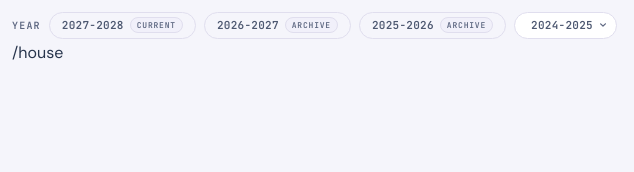
Scenario: House selector academic-year rollover (#595) › keeps older verified years available in the More Years selector
Select "2023-2024" in the dropdown named "more years" at (566,25), box [514, 12, 617, 38]
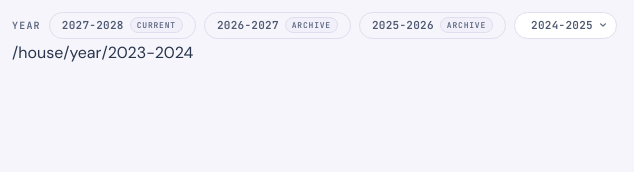
Check: the text named "Current route" reads "/house/year/2023-2024", box [12, 42, 193, 62]
